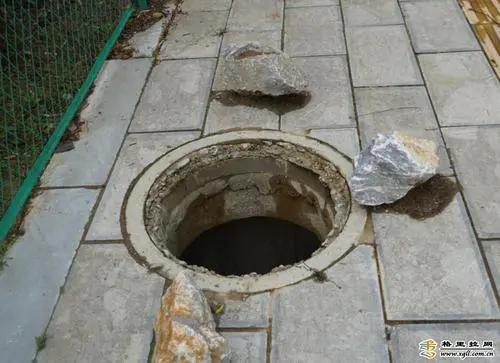wellcover: (138, 140, 358, 281)
